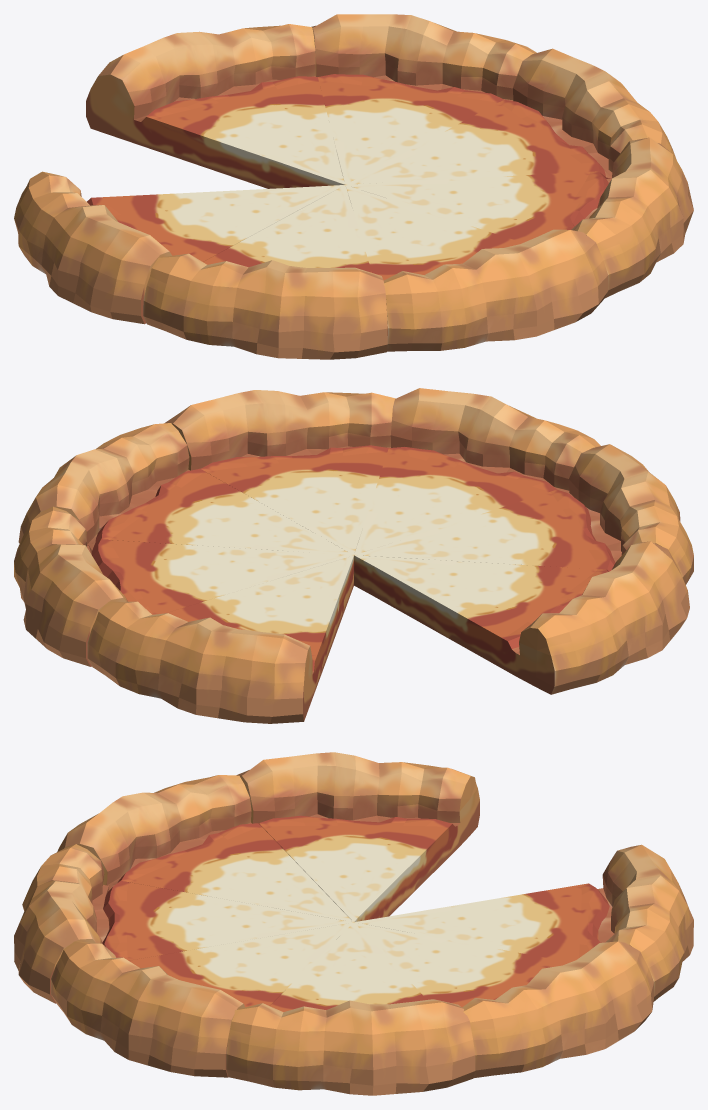
File: pizza_P00.fbx
3 views of the same model, one above another, from view 1: azimuth 30°, elevation 25°; view 2: azimuth 150°, elevation 25°; view 3: azimuth 270°, elevation 25° (orthographic).
Parts seen in each view (by area): view 1: Cylinder.002, Cylinder.005, Cylinder.006, Cylinder.001, Cylinder.004, Cylinder.007, Cylinder.008; view 2: Cylinder.004, Cylinder.002, Cylinder.007, Cylinder.006, Cylinder.001, Cylinder.008, Cylinder.005; view 3: Cylinder.008, Cylinder.004, Cylinder.001, Cylinder.007, Cylinder.005, Cylinder.006, Cylinder.002.
Boxes of the visible parts, <box> form: Cylinder.002: <box>86,24,345,188</box>; Cylinder.005: <box>143,185,387,359</box>; Cylinder.006: <box>345,185,608,351</box>; Cylinder.001: <box>311,14,536,184</box>; Cylinder.004: <box>14,171,344,324</box>; Cylinder.007: <box>346,137,693,298</box>; Cylinder.008: <box>346,48,676,184</box>; Cylinder.004: <box>354,541,689,694</box>; Cylinder.002: <box>87,555,353,723</box>; Cylinder.007: <box>164,390,395,554</box>; Cylinder.006: <box>354,388,600,555</box>; Cylinder.001: <box>14,506,353,666</box>; Cylinder.008: <box>18,423,353,555</box>; Cylinder.005: <box>355,444,693,584</box>; Cylinder.008: <box>226,922,475,1095</box>; Cylinder.004: <box>236,752,479,921</box>; Cylinder.001: <box>354,922,653,1078</box>; Cylinder.007: <box>51,922,353,1077</box>; Cylinder.005: <box>57,775,352,921</box>; Cylinder.006: <box>14,844,352,1003</box>; Cylinder.002: <box>354,844,693,1001</box>.
Bounding box in the file's own units: 322 × 37.49 × 322.
